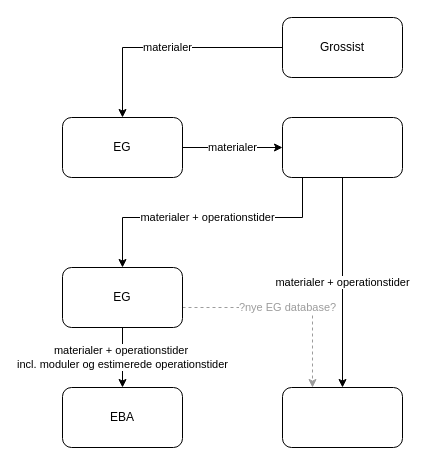
Some shapes in this 427 by 465 pixel diagram are drawn without their labels. The centre of each missing label's shape, as x and y in pixels:
Akkord+: the point at 342,417
Tempo: the point at 342,147
